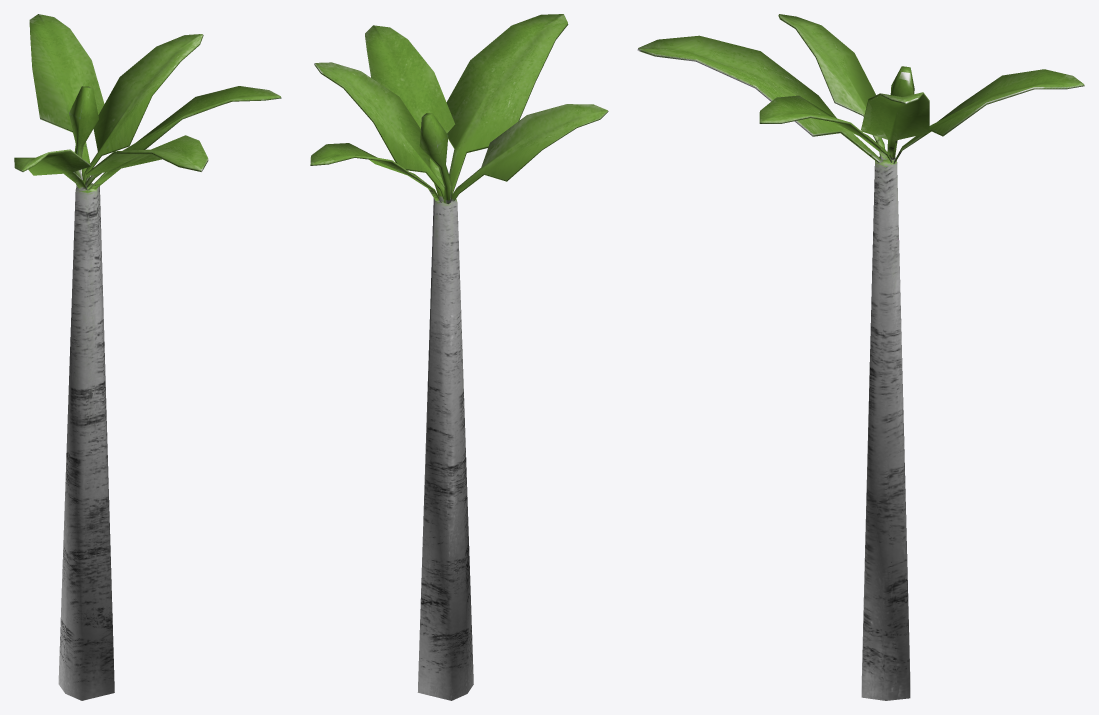
The model's file is chambira.obj.
3 views of the same model, side by side, from view 1: azimuth 30°, elevation 25°; view 2: azimuth 150°, elevation 25°; view 3: azimuth 270°, elevation 25° (orthographic). The views are drawn at different scales.
Visible parts, largest first — view 1: chambira_(1)_Material.001; view 2: chambira_(1)_Material.001; view 3: chambira_(1)_Material.001.
Part boxes in pixels (x1,y1,x2,y2): chambira_(1)_Material.001: [14, 14, 281, 700]; chambira_(1)_Material.001: [310, 14, 608, 700]; chambira_(1)_Material.001: [637, 14, 1084, 700].
Bounding box in the file's own units: 3.91 × 9.24 × 5.75.
1 material, 1 textured.
